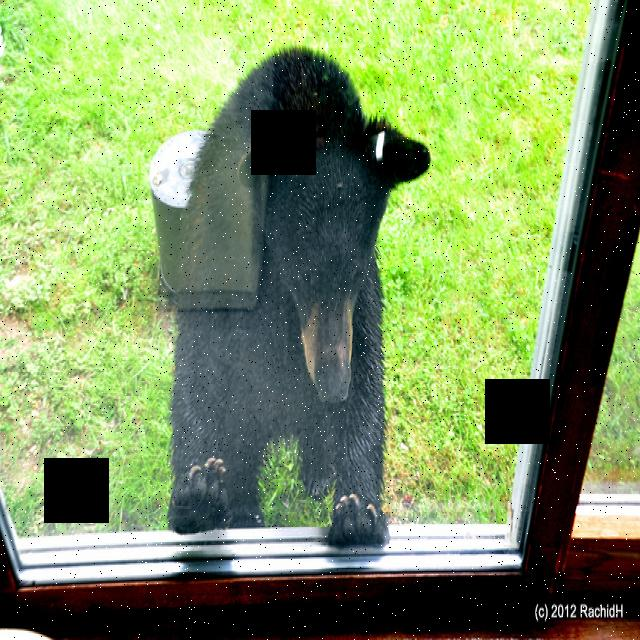Bear: (174, 48, 428, 563)
